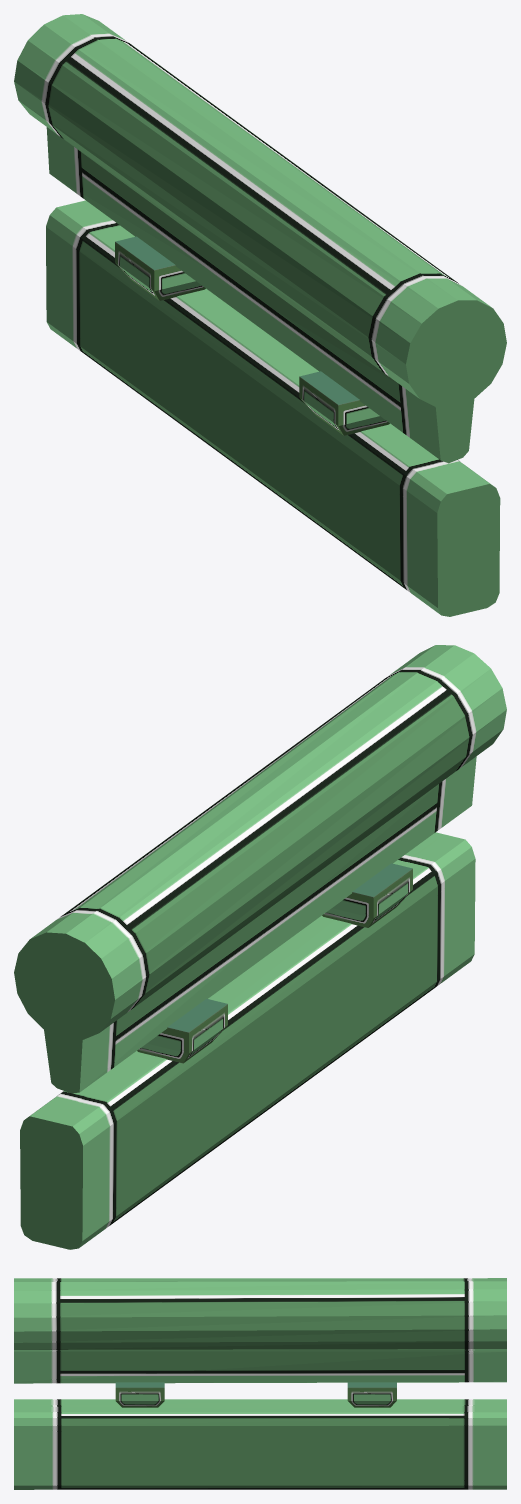
The model's file is SM_R_Dancheong_15.fbx.
The picture shows the model from 3 angles, top to bottom: view 1: azimuth 30°, elevation 25°; view 2: azimuth 150°, elevation 25°; view 3: azimuth 270°, elevation 25°; orthographic projection. The views are drawn at different scales.
Parts seen in each view (by area): view 1: SM_R_Dancheong_15_LOD0; view 2: SM_R_Dancheong_15_LOD0; view 3: SM_R_Dancheong_15_LOD0.
Part boxes in pixels (bbox=[...]): SM_R_Dancheong_15_LOD0: bbox=[14, 14, 506, 616]; SM_R_Dancheong_15_LOD0: bbox=[14, 645, 506, 1249]; SM_R_Dancheong_15_LOD0: bbox=[14, 1278, 506, 1489].
Size of the model in its own units: 24.87 by 166 by 73.51.
2 materials, 2 textured.
